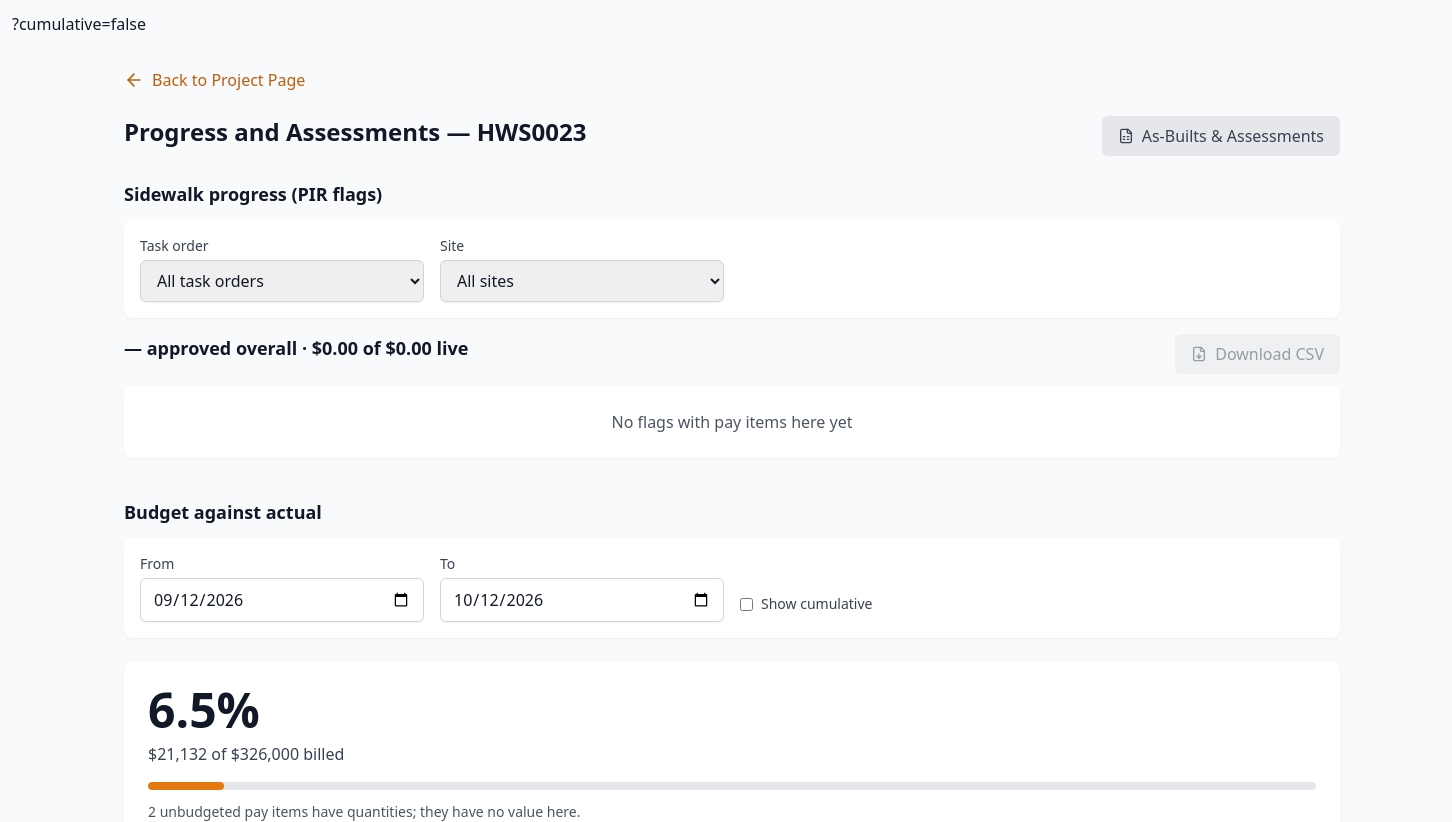
Test: ProgressPage — the date range › a cleared picker is an open bound
Clear the date field labelled "From" at (282, 600), box [140,578,424,622]
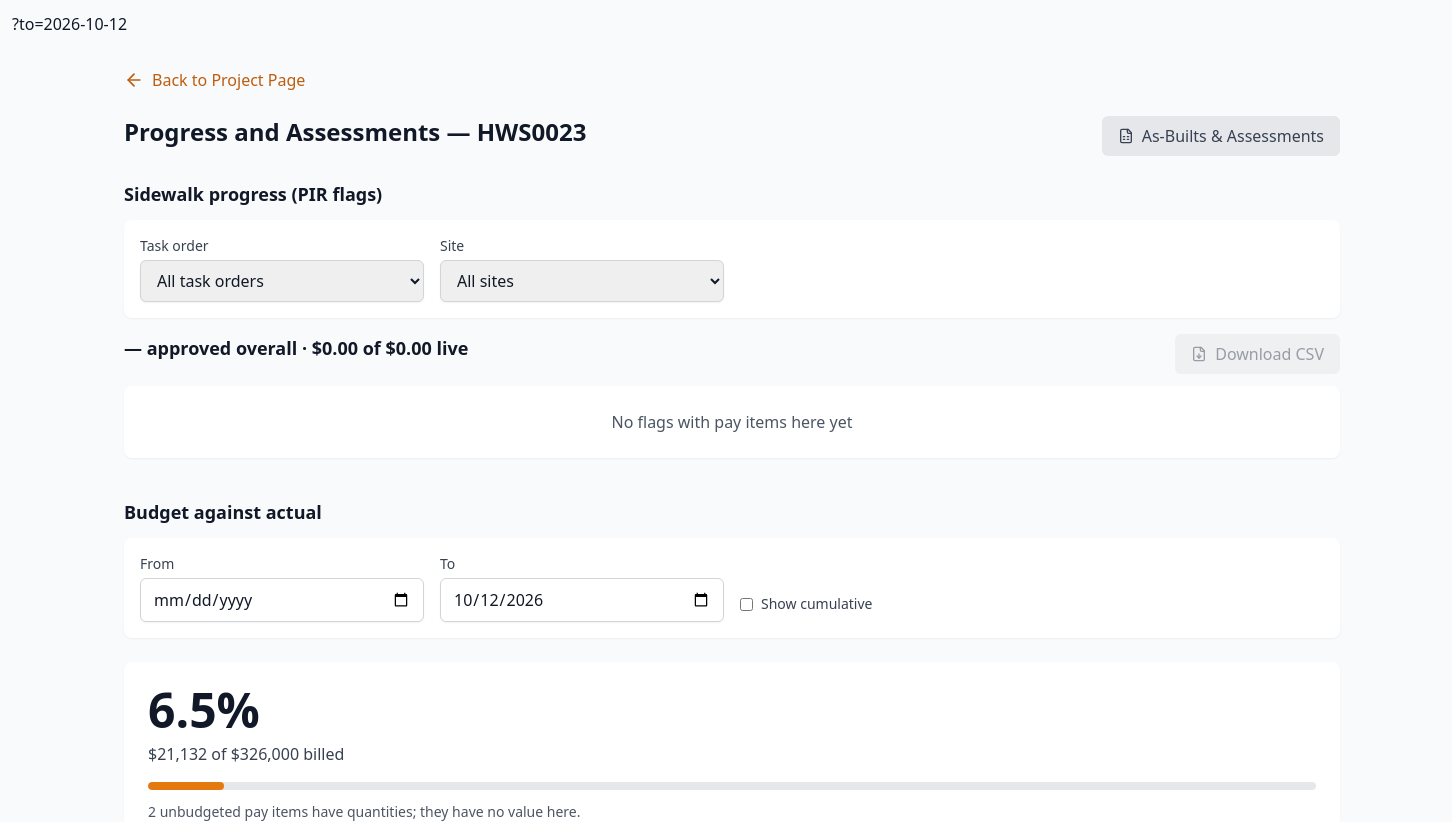
Expected: the text with test id "progress-url" reads "?to=2026-10-12", [12,13,127,35]
